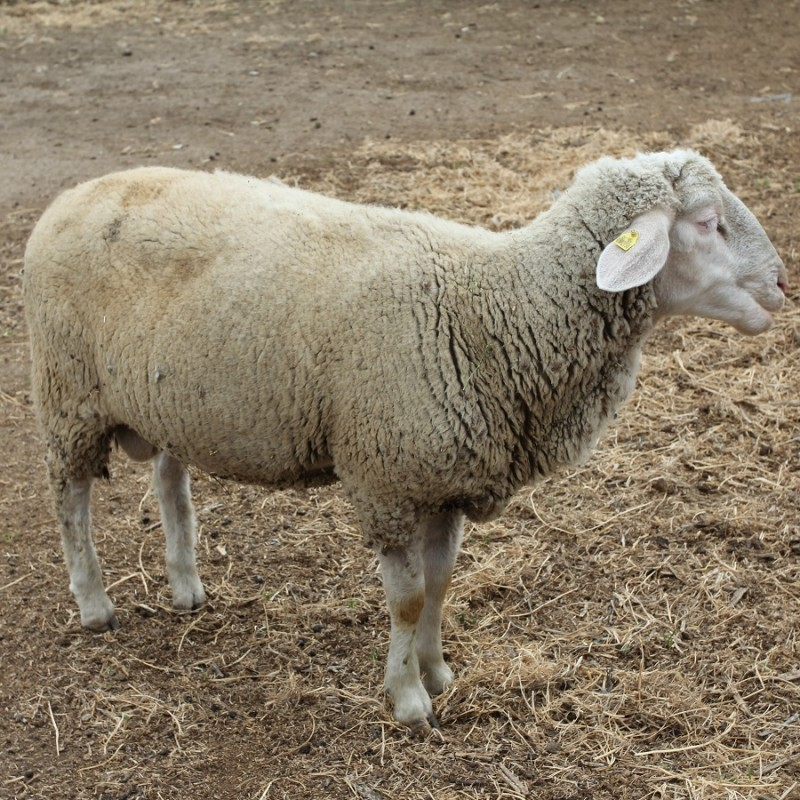sheep: (20, 127, 781, 721)
